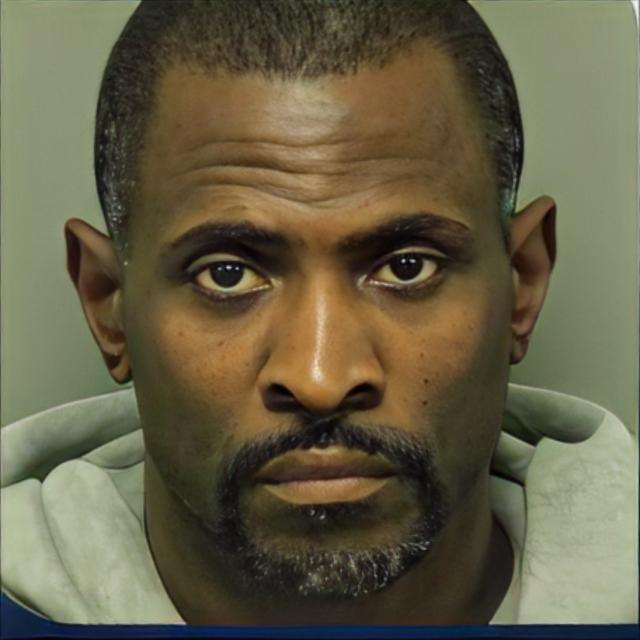anger: (127, 73, 509, 590)
